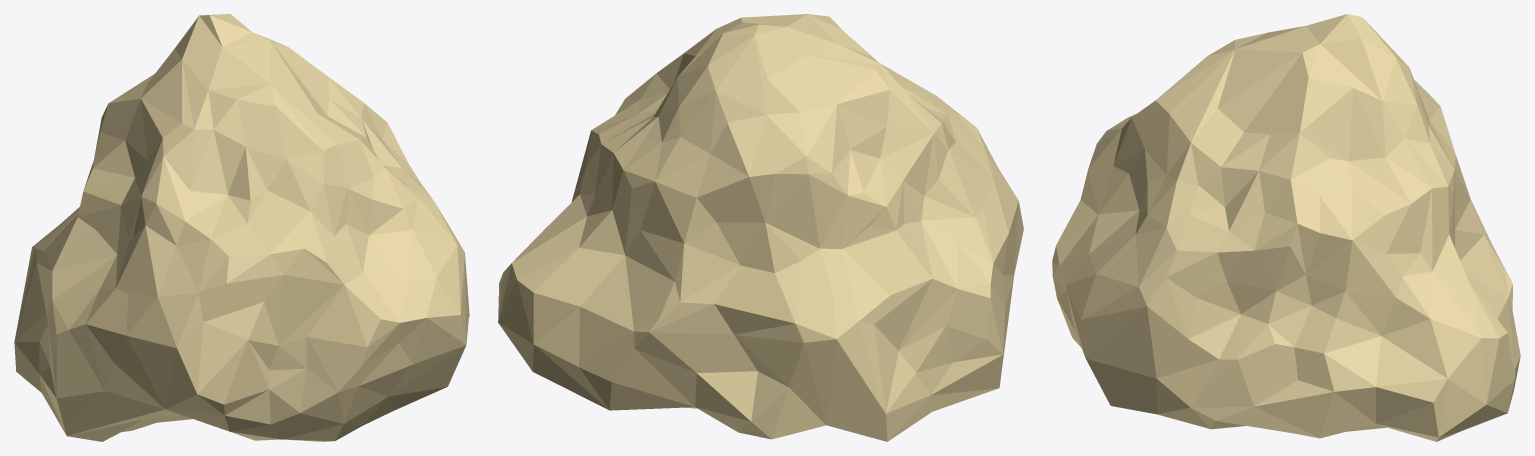
The model's file is Asteroid (9).fbx.
The picture shows the model from 3 angles, left to right: view 1: azimuth 30°, elevation 25°; view 2: azimuth 150°, elevation 25°; view 3: azimuth 270°, elevation 25°; orthographic projection. The views are drawn at different scales.
Parts seen in each view (by area): view 1: Asteroid98; view 2: Asteroid98; view 3: Asteroid98.
Part boxes in pixels (x1=…): Asteroid98: x1=14, y1=14, x2=469, y2=441; Asteroid98: x1=498, y1=14, x2=1023, y2=441; Asteroid98: x1=1052, y1=14, x2=1520, y2=441.
Bounding box in the file's own units: 278 × 234 × 268.
